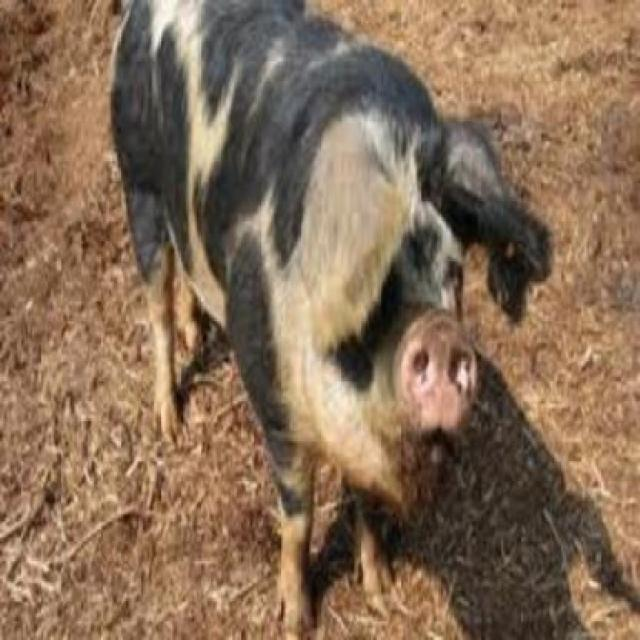pig: (109, 0, 551, 636)
